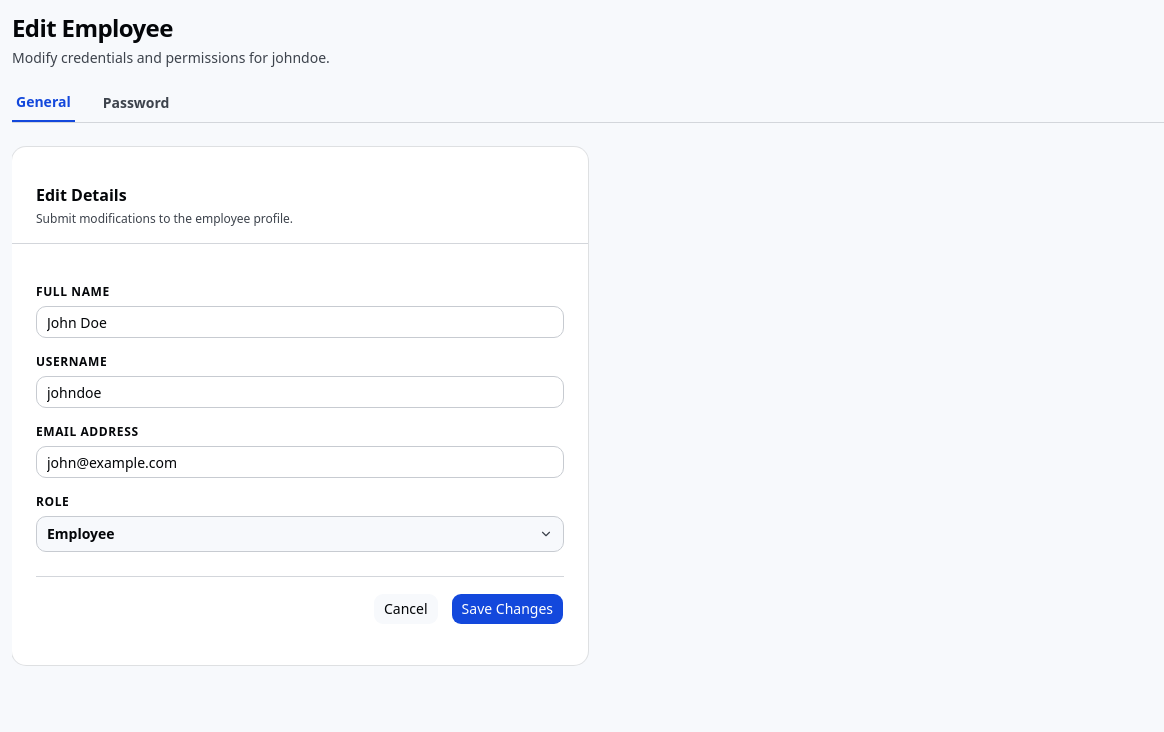
Test case: EditEmployeeForm Component › should show mismatch warning when passwords do not match
Click the button "Password": (136, 107) [99,92,174,122]
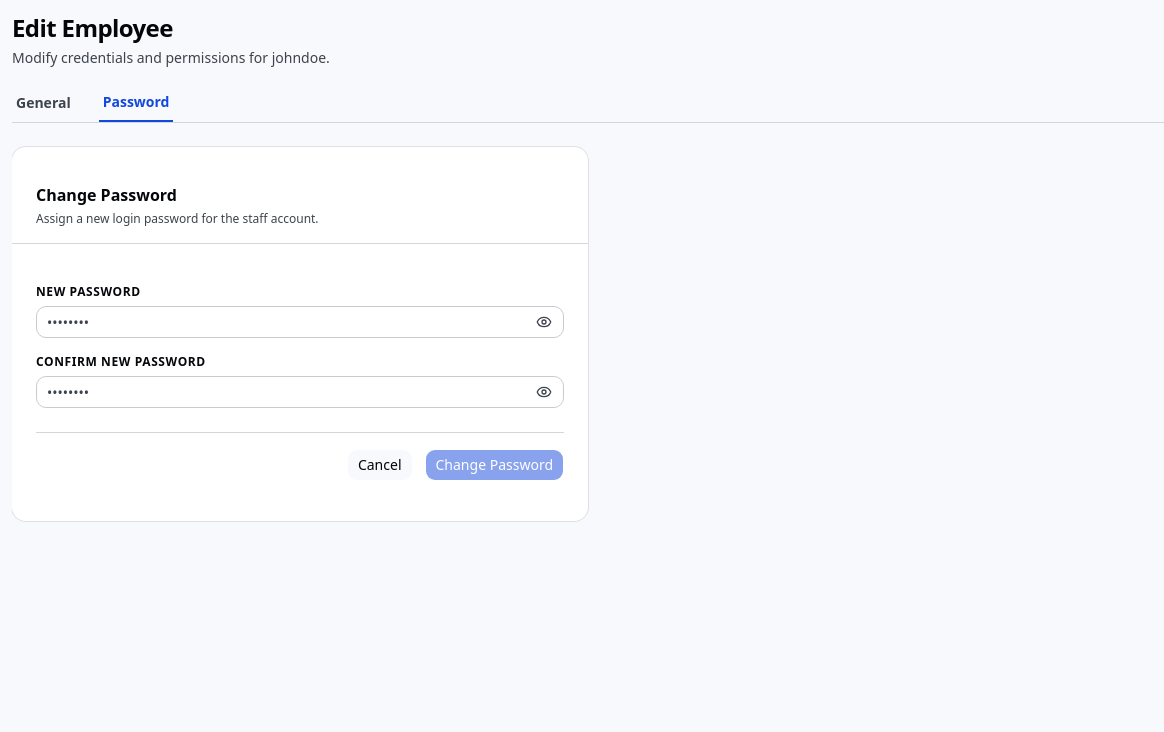
In the password field labelled "New Password": (300, 322) [36,306,564,338], type "Password123!"
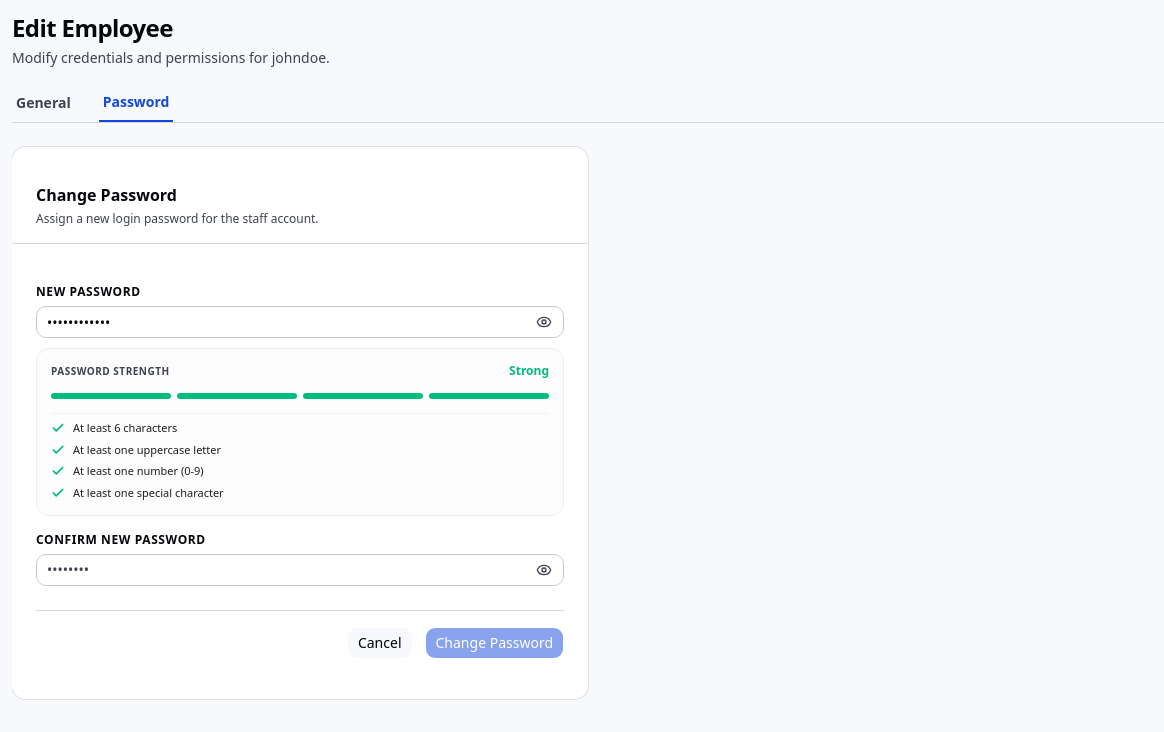
In the password field labelled "Confirm New Password": (300, 570) [36,554,564,586], type "Password456!"
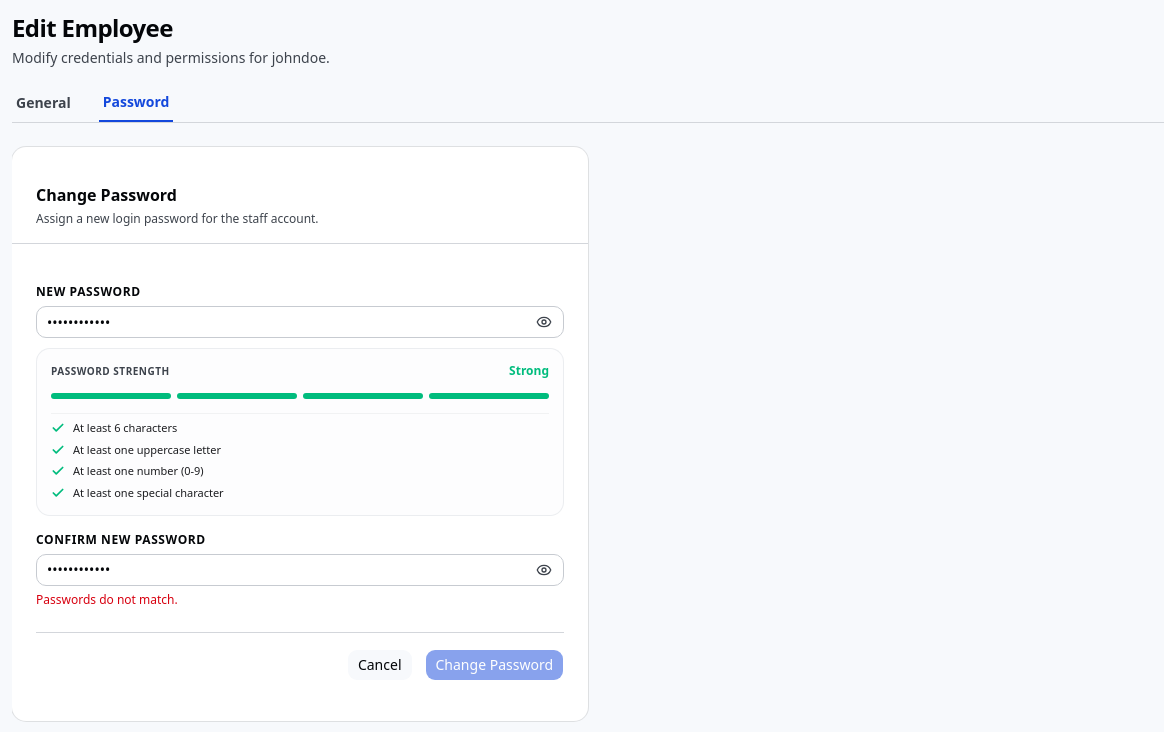
Now the text "Passwords do not match." is shown, box [36,591,178,608]
